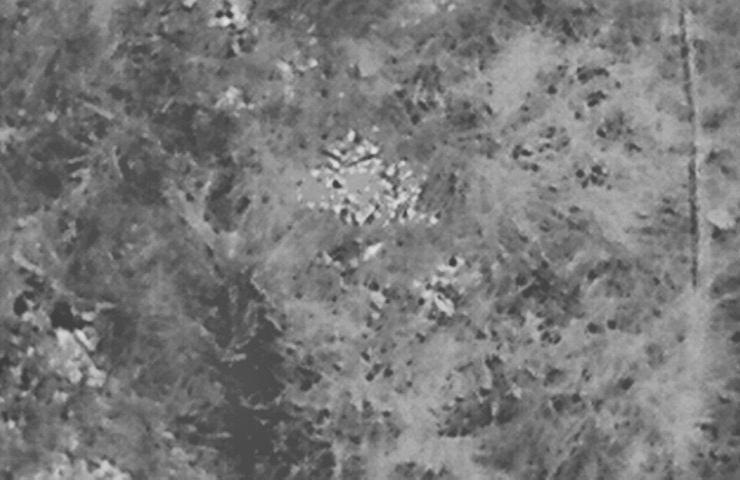landmines: (302, 135, 426, 231)
